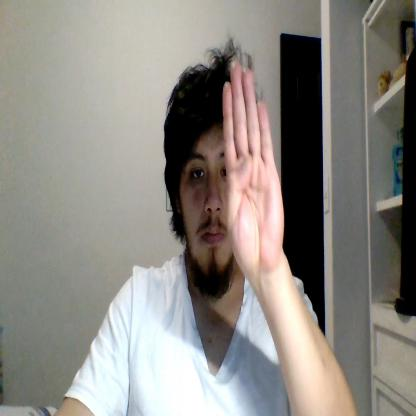B: (222, 60, 284, 272)
